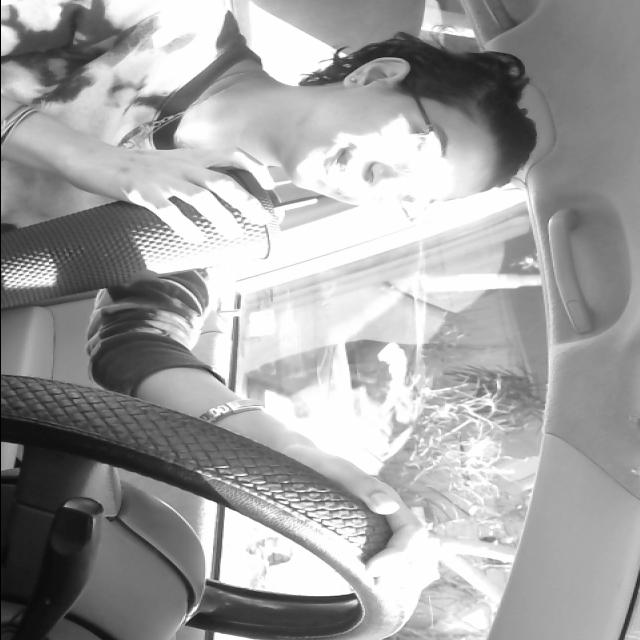drinking: (0, 152, 325, 314)
